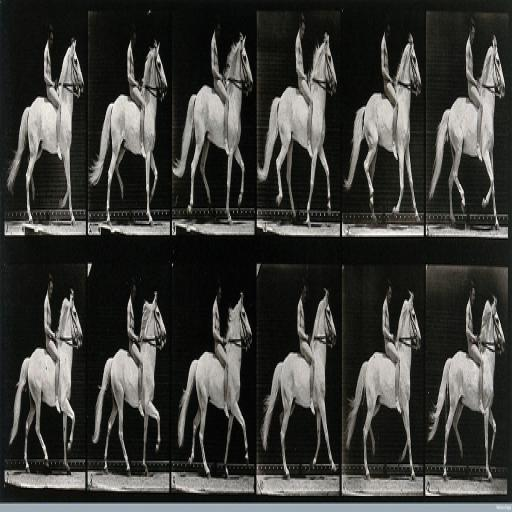horse: (258, 34, 338, 232), (259, 280, 337, 482), (428, 34, 506, 234), (341, 34, 423, 224), (173, 30, 254, 222), (345, 290, 424, 486), (88, 36, 169, 226), (428, 292, 506, 488), (6, 36, 86, 226), (92, 294, 167, 480), (8, 298, 84, 476), (176, 298, 252, 476)
